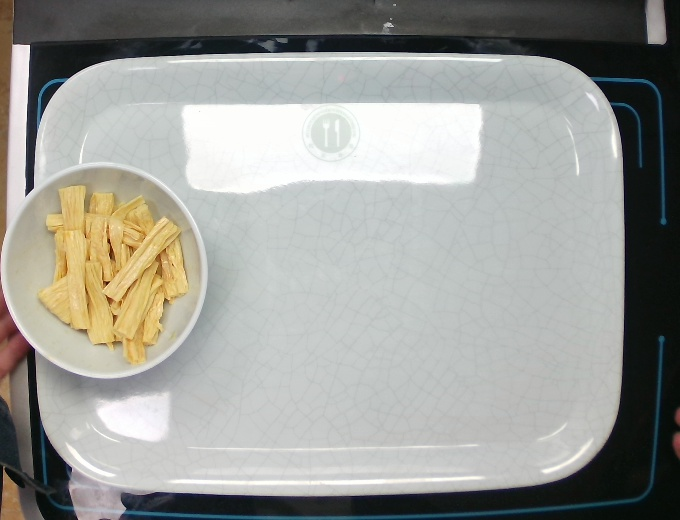JYsf-Fan_Wan: (1, 160, 213, 384)
